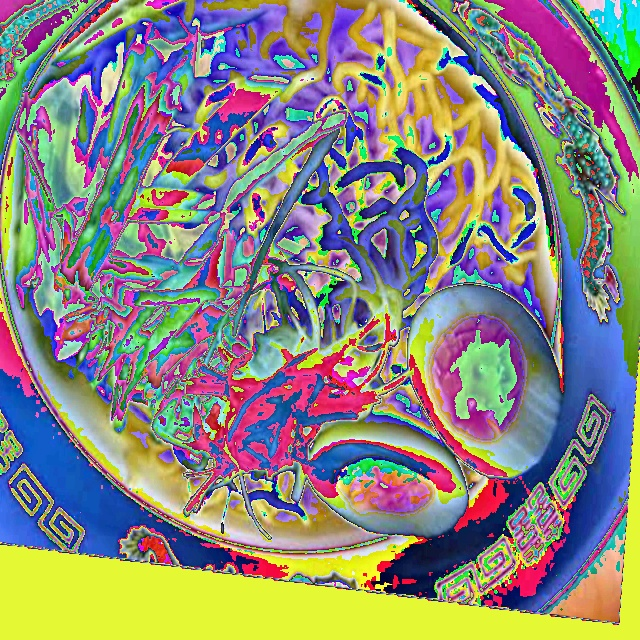background: (13, 0, 563, 542)
